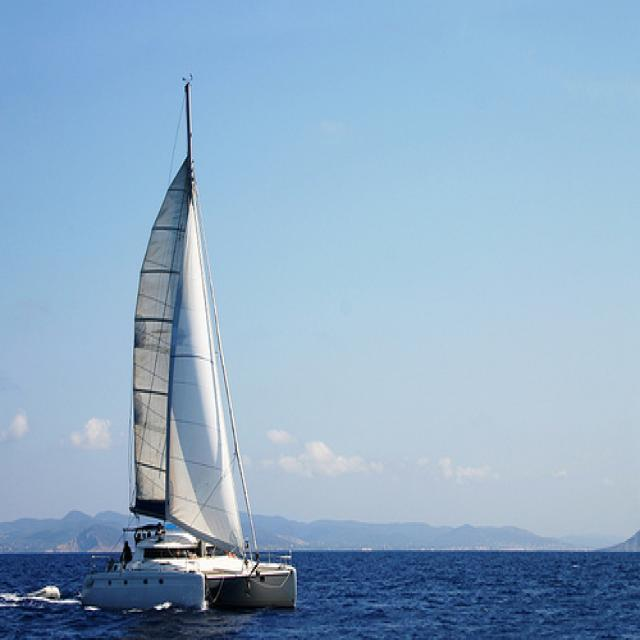Ship: (106, 94, 304, 616)
